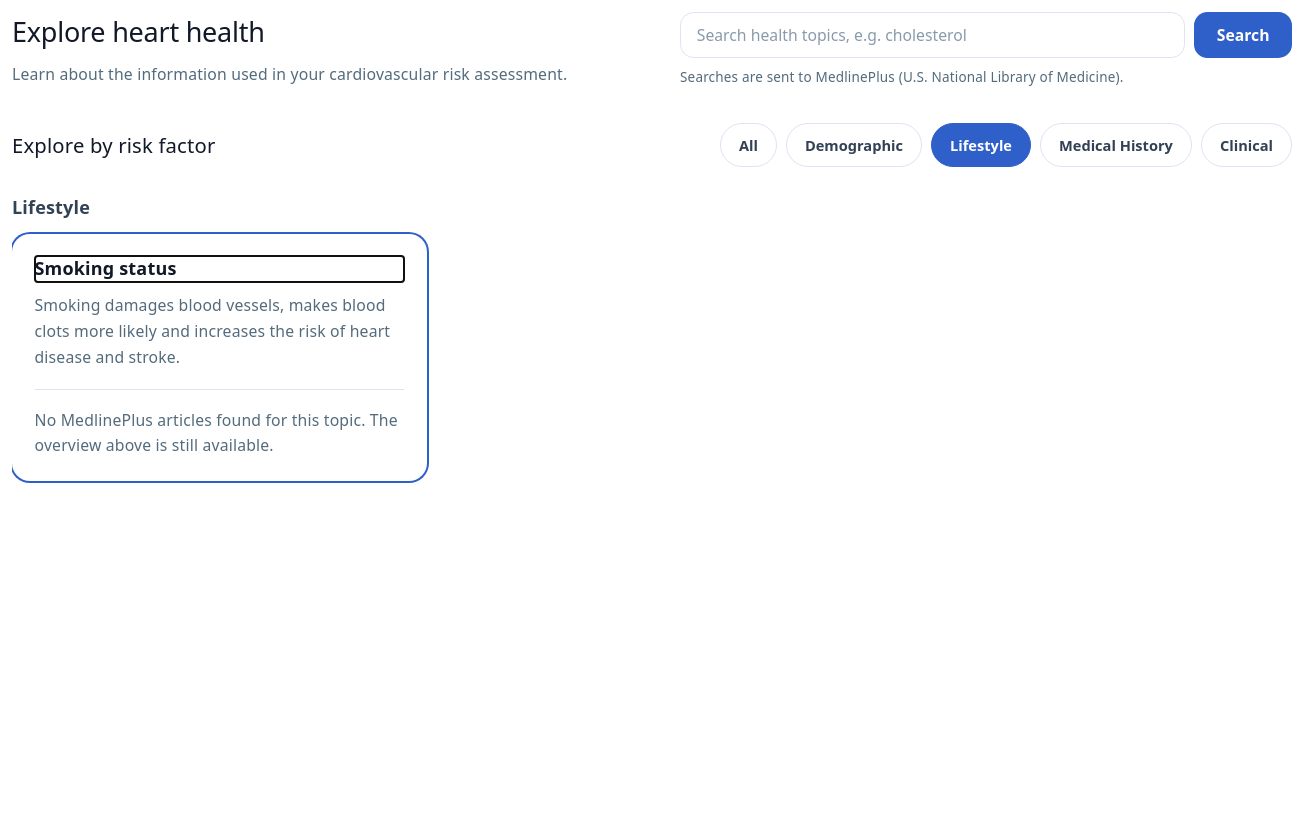
keeps filters and independent search available after following a factor link
Click the button "All": [748, 145] box top-left (720, 123), bottom-right (777, 167)
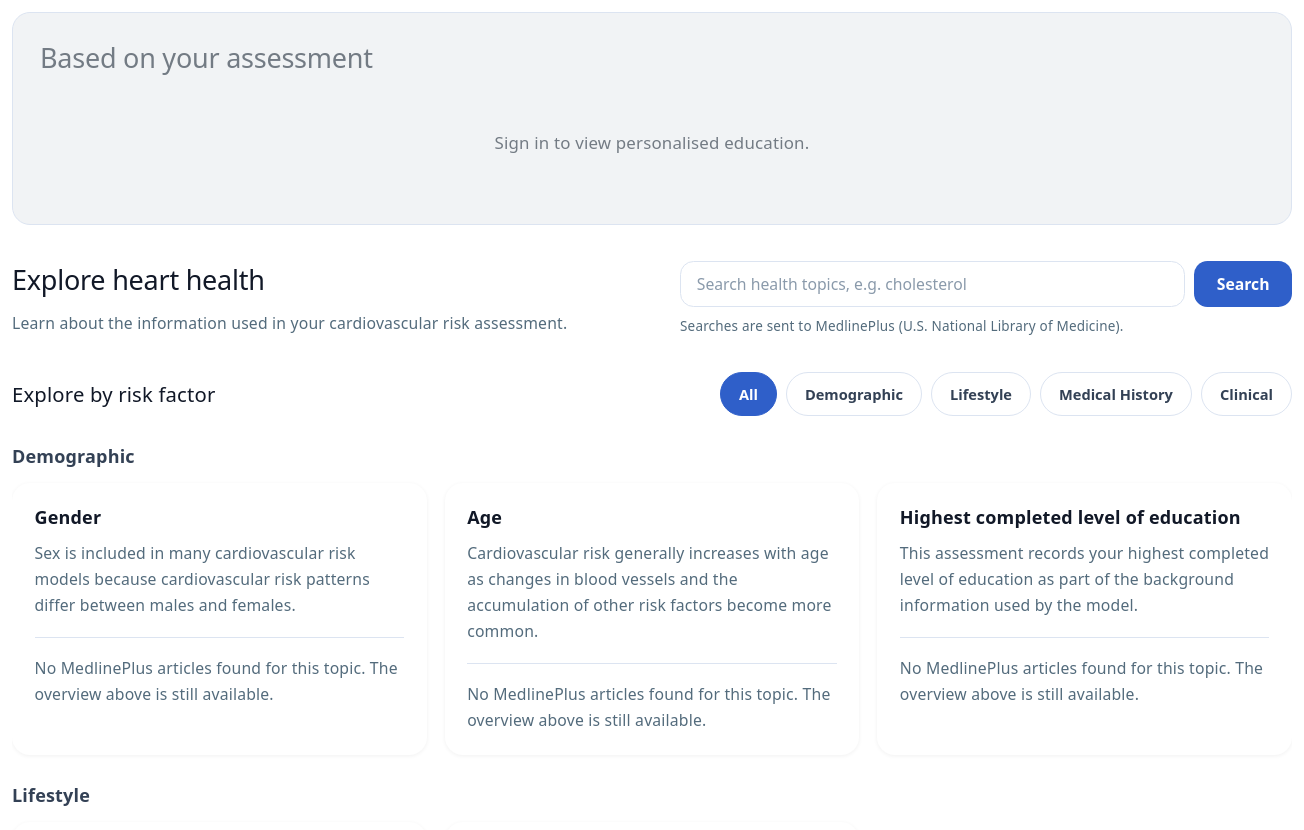
Now the element "Based on your assessment" is shown, box top-left (12, 12), bottom-right (1292, 225)
In the search field: [933, 284] box top-left (680, 261), bottom-right (1185, 307), type "quitting smoking"
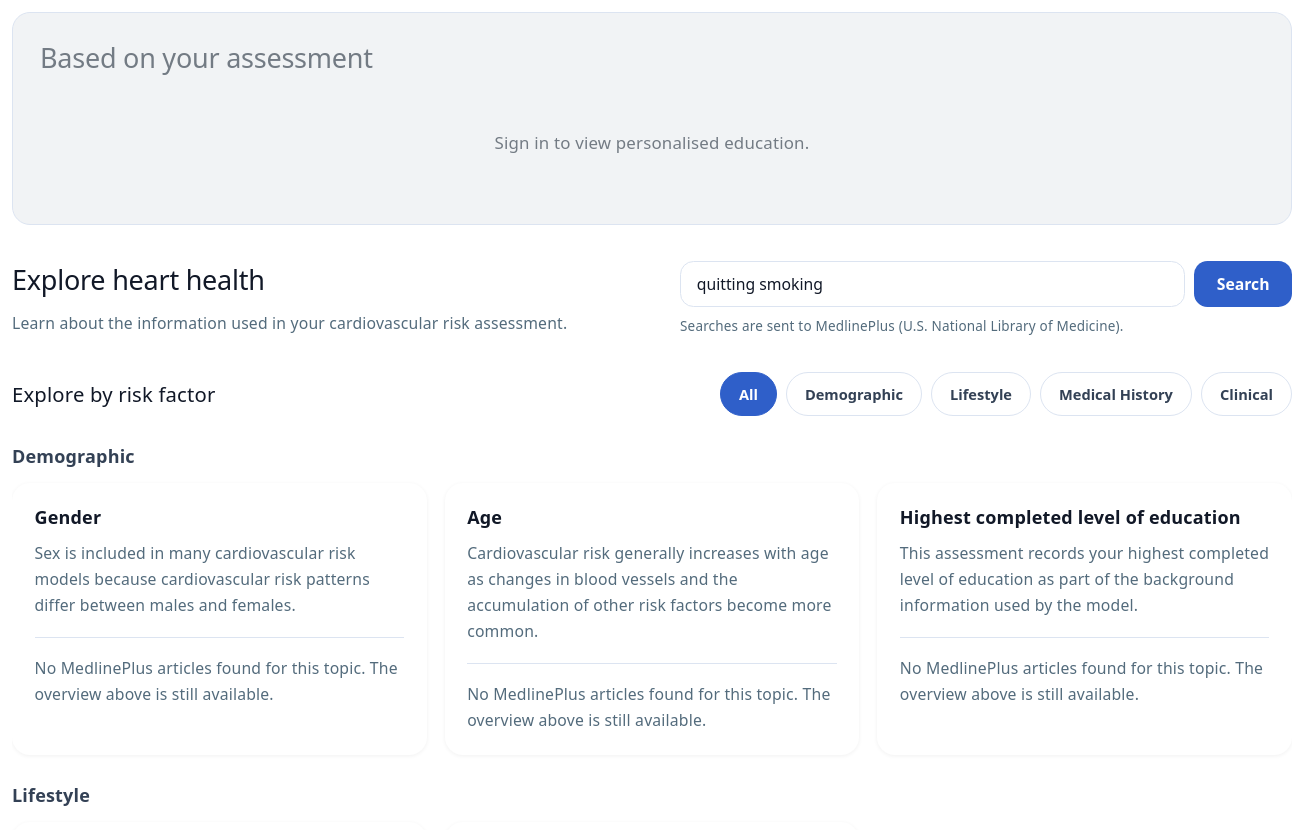
Click the button "Search": [1243, 284] box top-left (1194, 261), bottom-right (1292, 307)
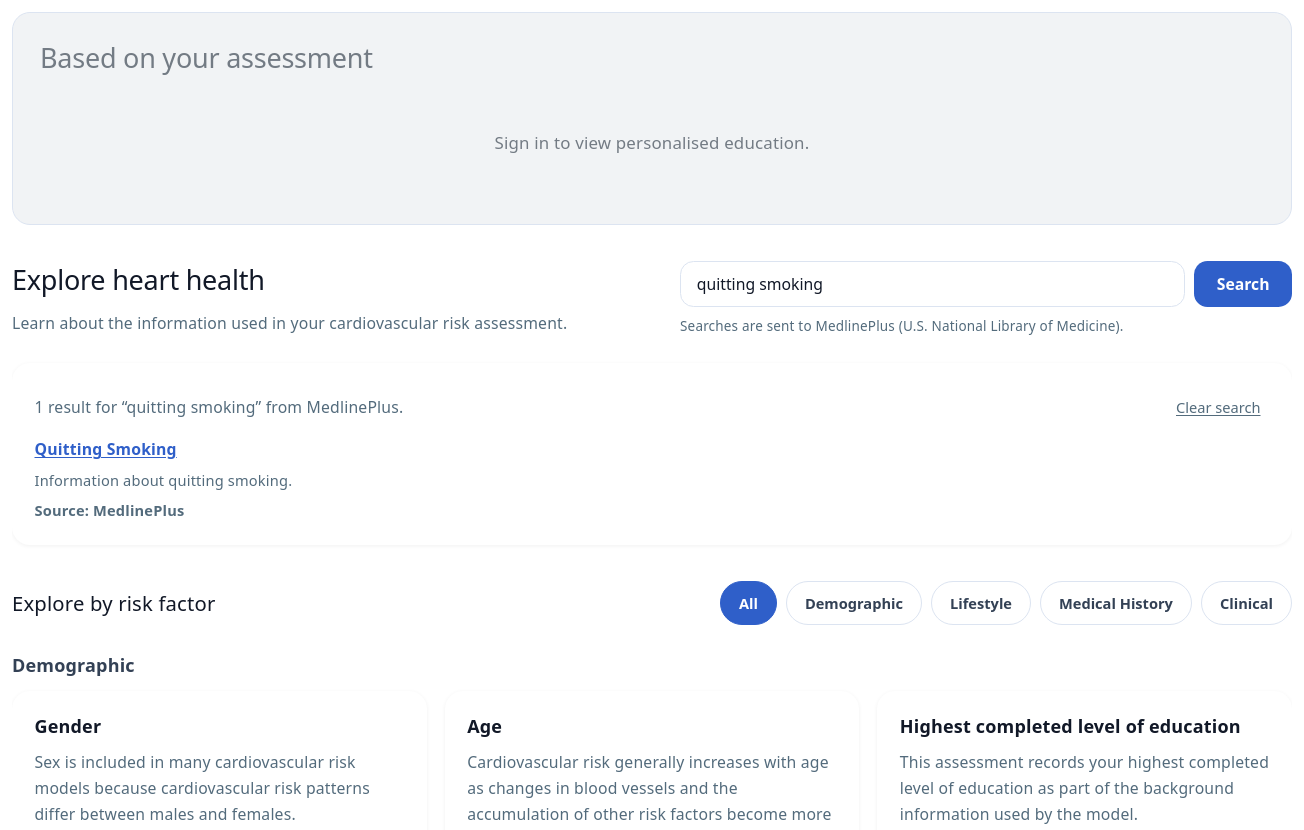
Now the list named "Search results for quitting smoking" is shown, box top-left (34, 437), bottom-right (337, 520)
